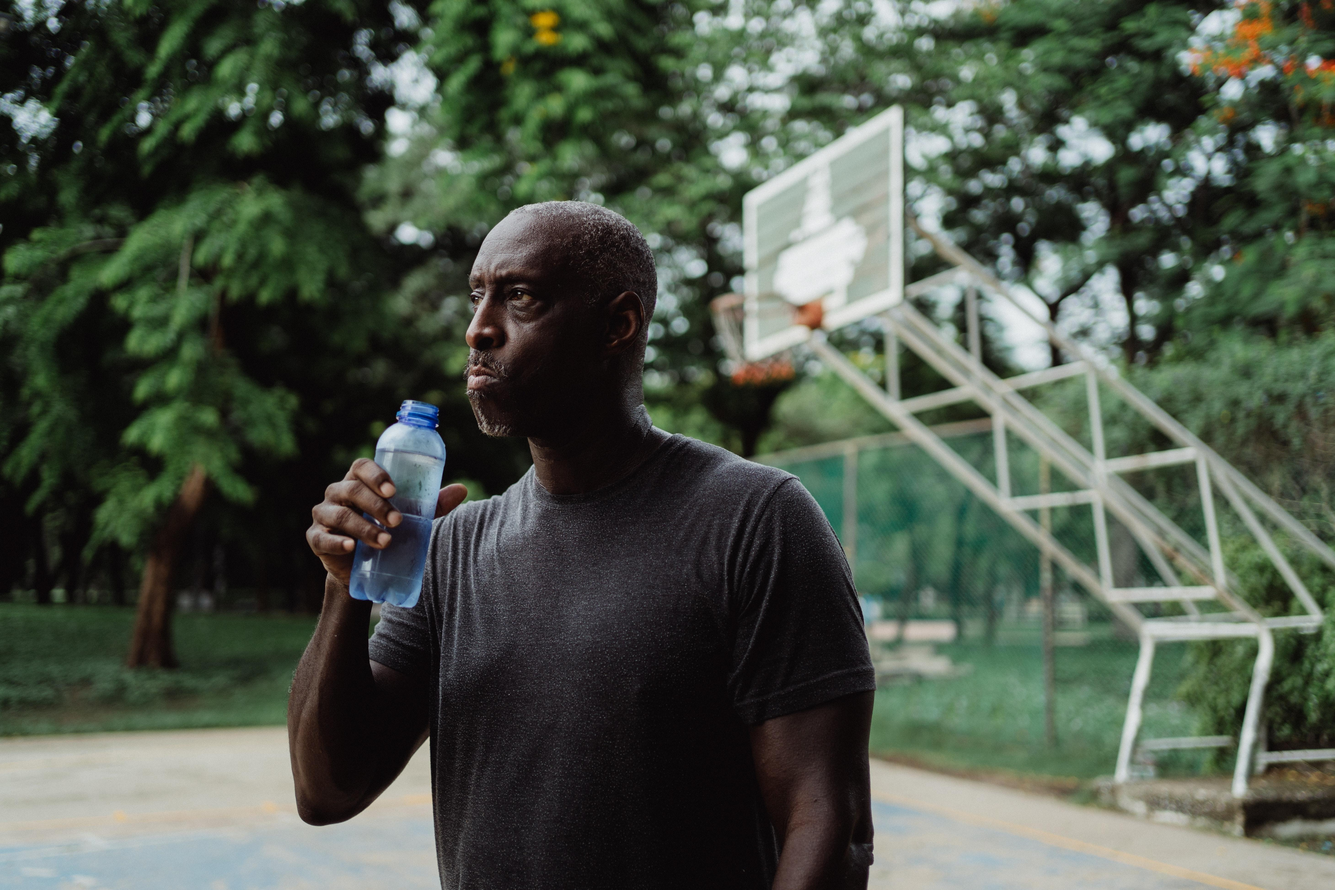bottle-plastic: (344, 395, 453, 613)
